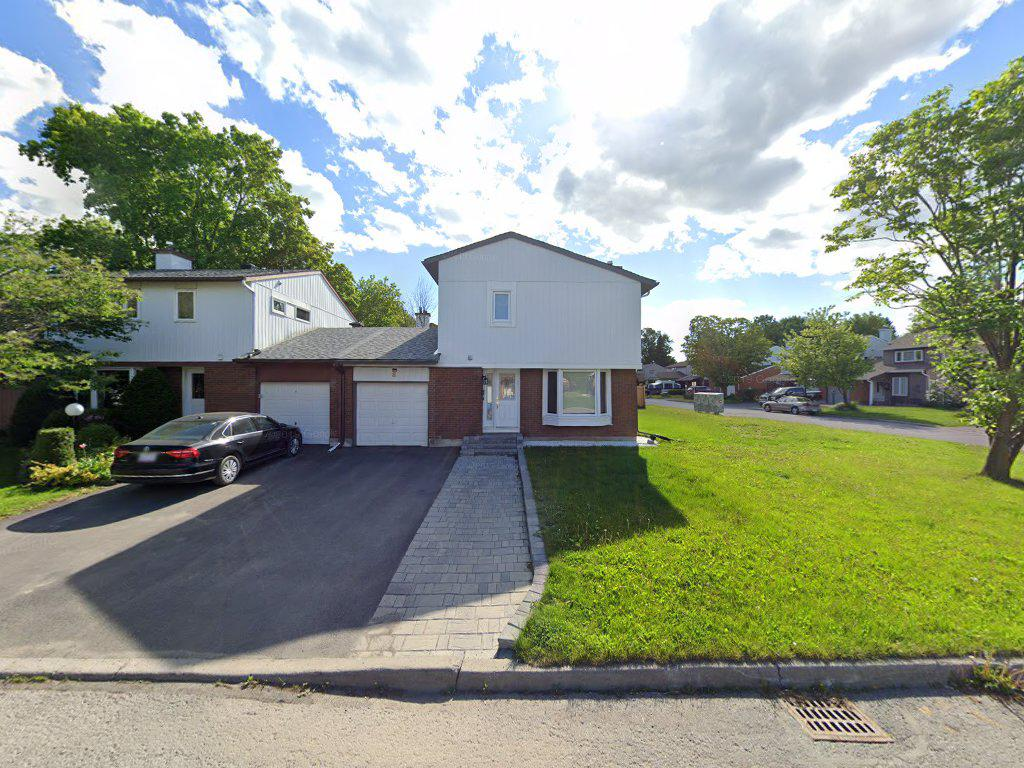trunk: (988, 396, 1016, 486)
